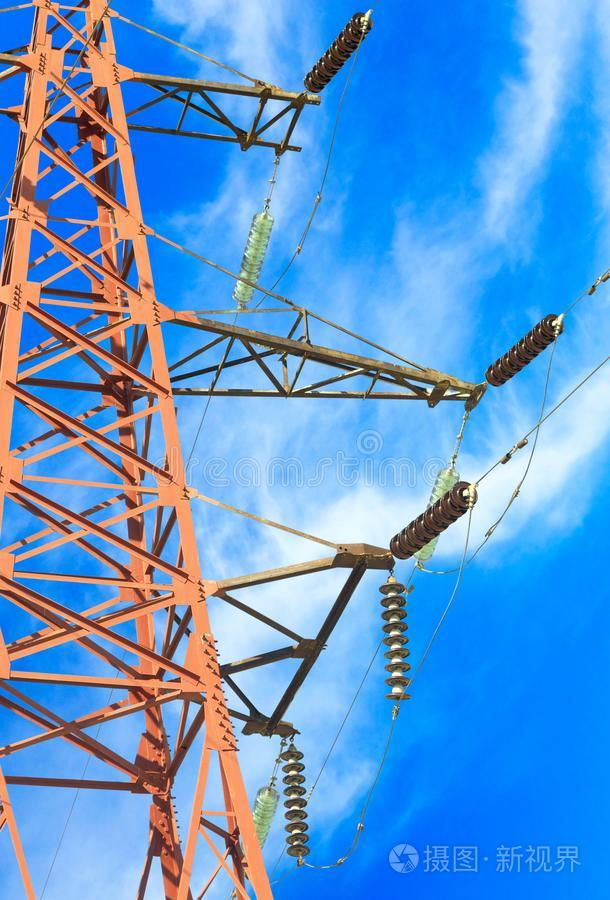insulator: (387, 482, 475, 562), (487, 315, 562, 388), (305, 14, 367, 93), (376, 582, 412, 706), (412, 467, 456, 564), (282, 746, 311, 863), (234, 214, 271, 302), (251, 789, 279, 848)
